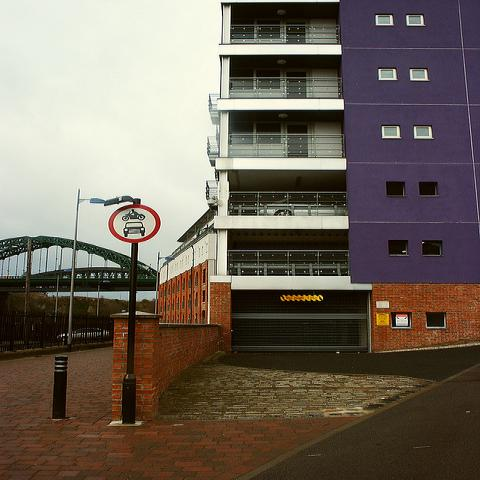car: (256, 191, 348, 217), (57, 328, 111, 342)
